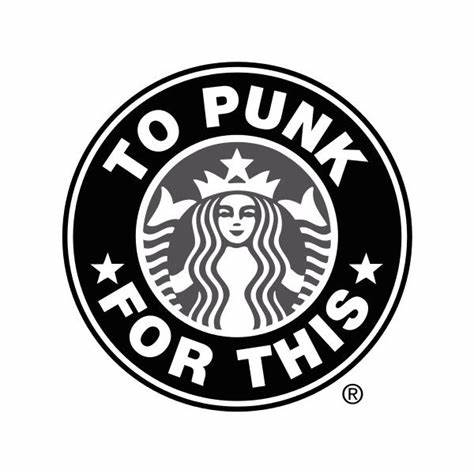starbucks Fake: (57, 56, 418, 419)
